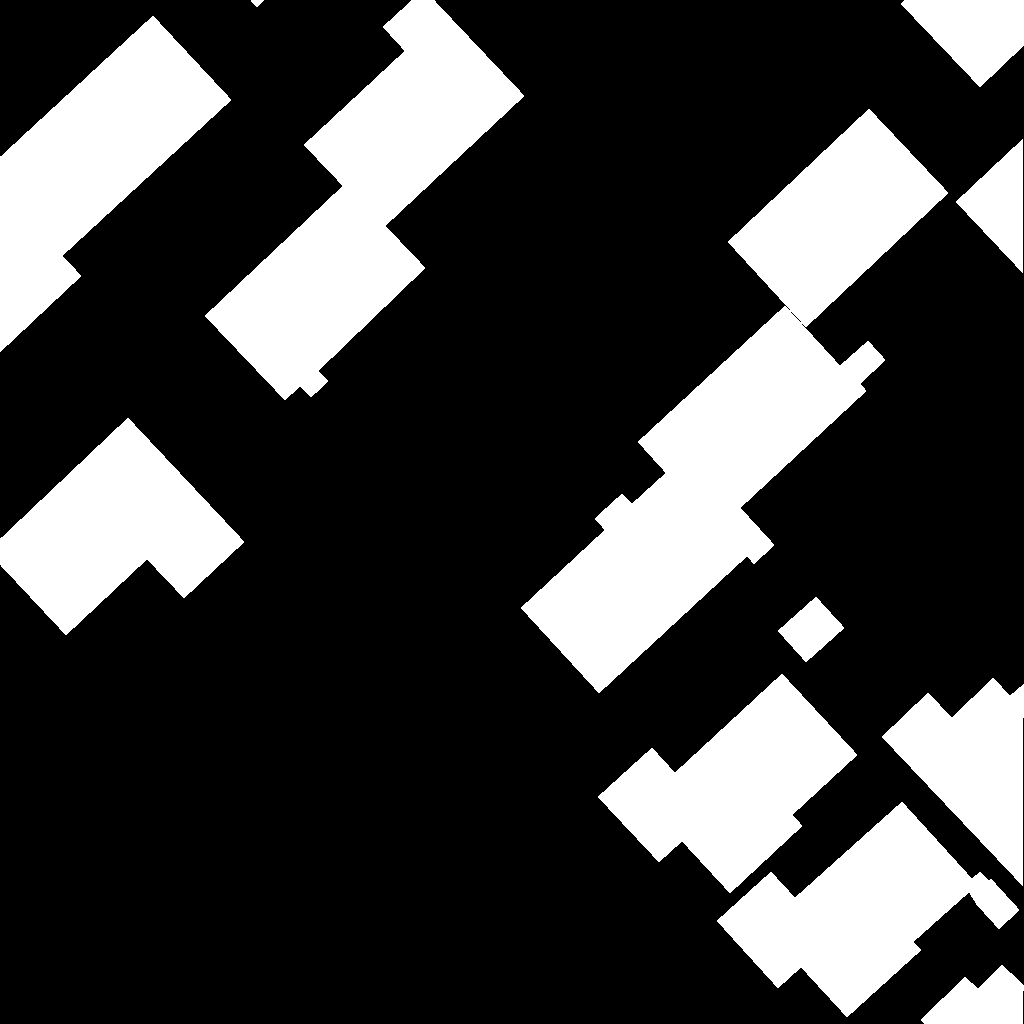building: (521, 306, 886, 694), (205, 0, 525, 401), (0, 16, 232, 353), (717, 802, 1020, 1018), (598, 674, 858, 894), (0, 418, 245, 636), (728, 109, 949, 328), (882, 678, 1024, 887), (901, 0, 1024, 88), (956, 139, 1024, 274), (921, 965, 1024, 1024), (778, 597, 845, 663), (250, 0, 265, 8)
